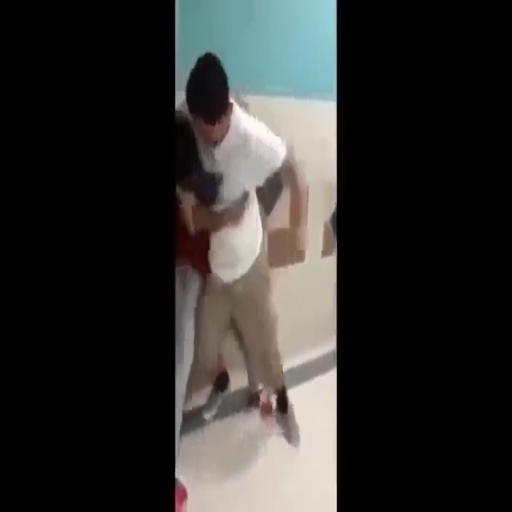violencia: (174, 28, 314, 512)
